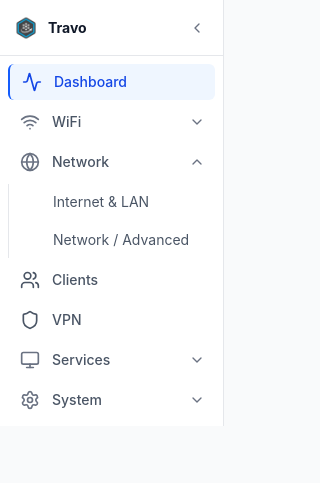
Sidebar › navigates to Connect when WiFi label is clicked without opening via arrow
Click the link "WiFi" at (51, 122), box [20,112,81,132]
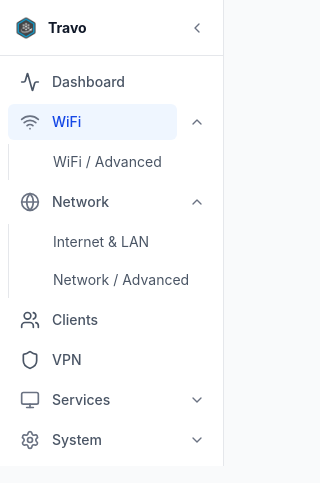
Expected: the button named "Toggle WiFi menu" is expanded, [179,104,215,140]
